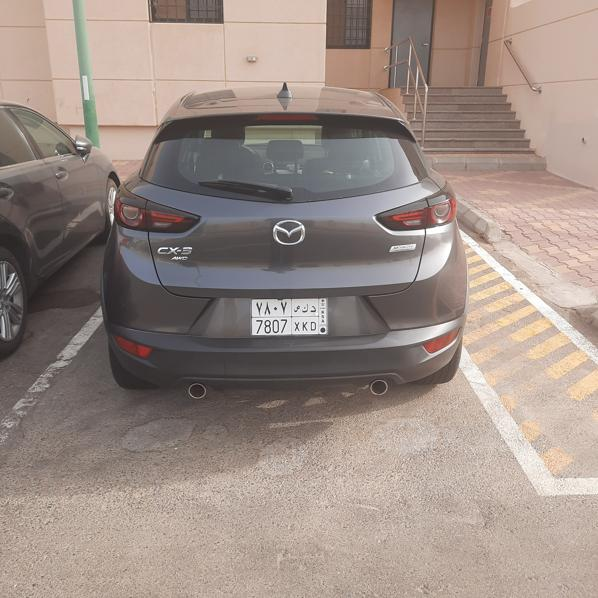numberplate: (251, 298, 327, 333)
